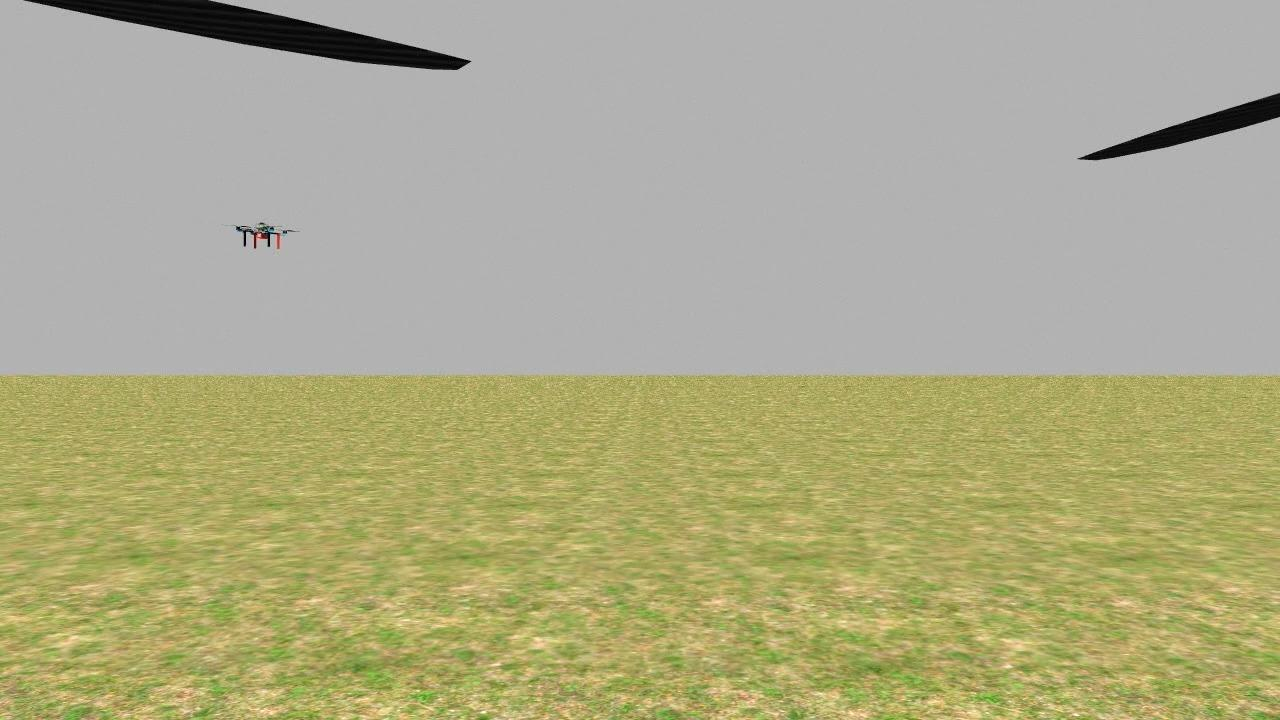UAV: (233, 214, 309, 264)
